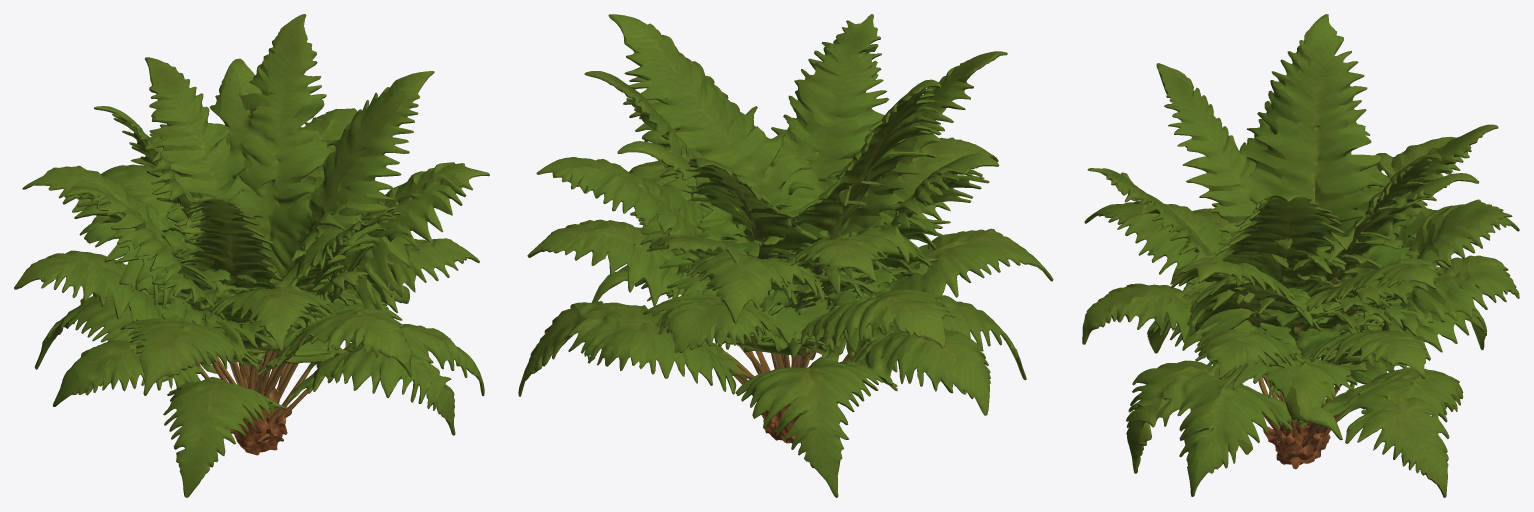
File: fern-clump.glb
3 renders of one model, left to right at view 1: azimuth 30°, elevation 25°; view 2: azimuth 150°, elevation 25°; view 3: azimuth 270°, elevation 25°, orthographic. The views are drawn at different scales.
Parts seen in each view (by area): view 1: world; view 2: world; view 3: world.
Boxes of the visible parts, left/top/right/bottom form: world: left=14, top=14, right=489, bottom=497; world: left=518, top=14, right=1053, bottom=497; world: left=1082, top=14, right=1519, bottom=497.
Size of the model in its own units: 0.8 by 0.749 by 0.797.
1 material, 1 textured.
